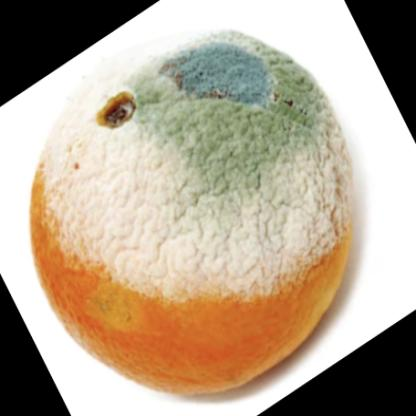rotten: (31, 32, 355, 399)
